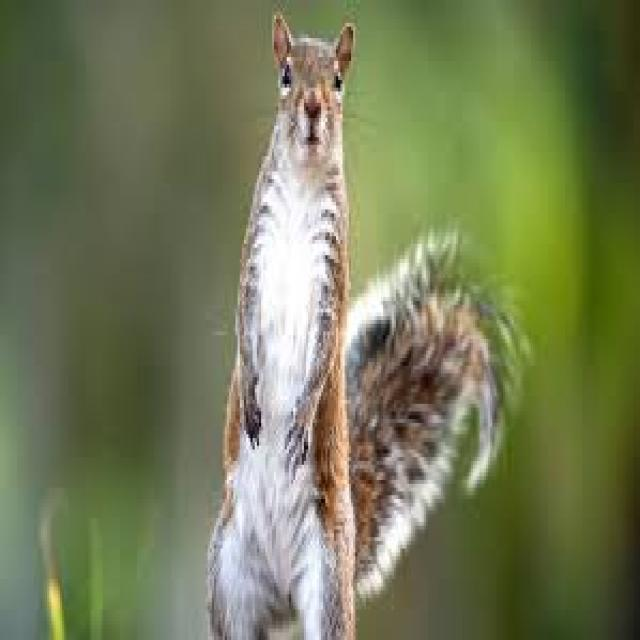Squirrel: (209, 12, 501, 640)
